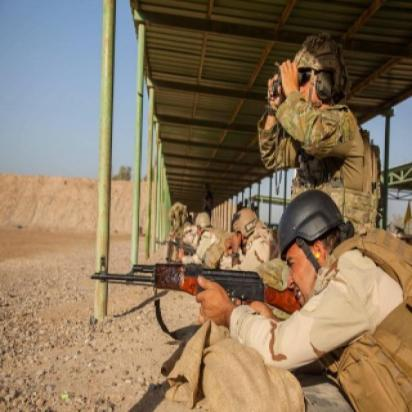Gun: (84, 254, 298, 322)
